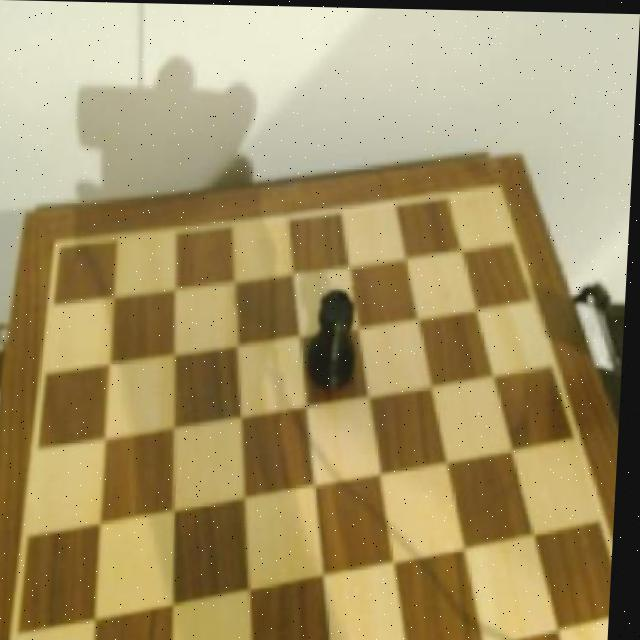black-queen: (310, 282, 369, 396)
